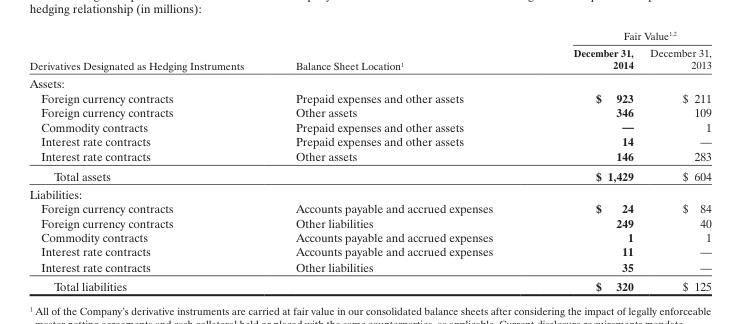table: (28, 28, 710, 292)
table column: (269, 28, 532, 292), (28, 28, 269, 292), (532, 28, 641, 292), (641, 28, 710, 292)
table column header: (28, 28, 710, 74)
table projected row header: (28, 184, 710, 201), (28, 74, 710, 90)
table row: (28, 43, 710, 74), (28, 165, 710, 184), (28, 148, 710, 165), (28, 184, 710, 201), (28, 259, 710, 276), (28, 74, 710, 90), (28, 276, 710, 292), (28, 28, 710, 43), (28, 104, 710, 119), (28, 133, 710, 148), (28, 229, 710, 244), (28, 244, 710, 259), (28, 90, 710, 104), (28, 119, 710, 133), (28, 201, 710, 215), (28, 215, 710, 229)
table spanning cell: (269, 28, 532, 74), (28, 28, 269, 74), (532, 28, 710, 43)
